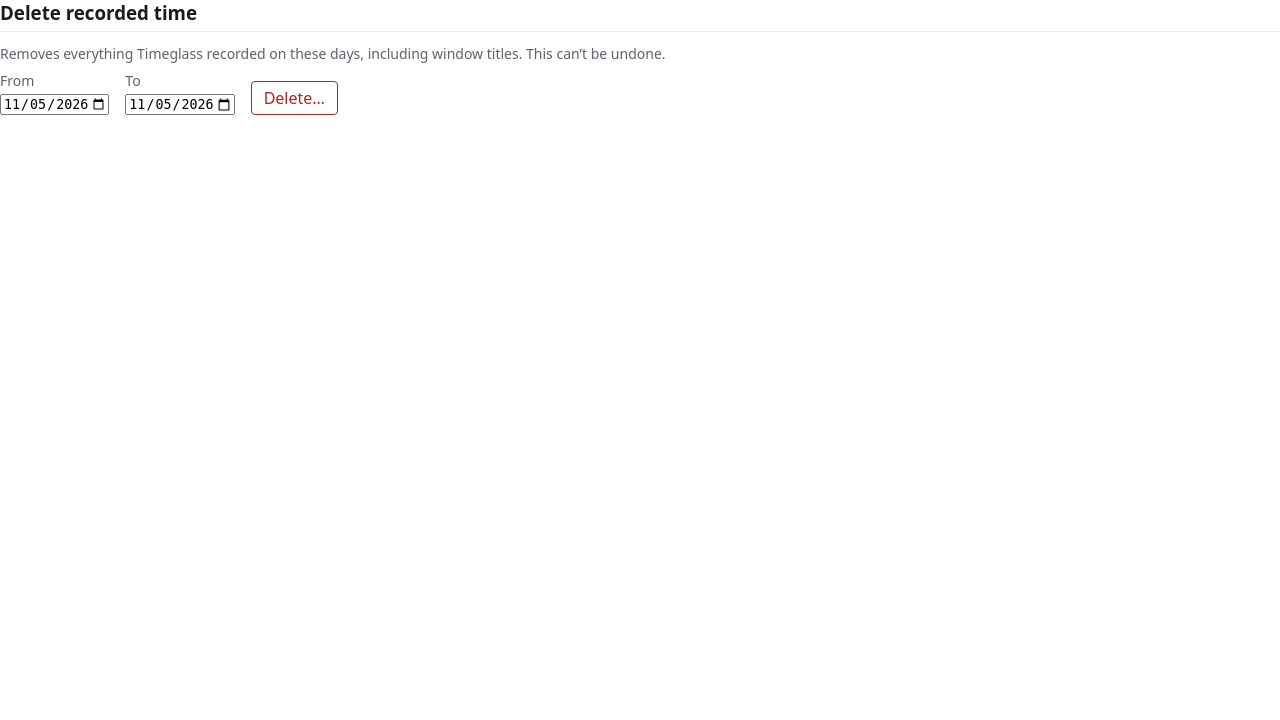
it: DeleteData › asks for confirmation, says how much time is deleted, and deletes
The width and height of the screenshot is (1280, 720).
Type "2026-11-02" into the date field labelled "From".
click(55, 105); type("2026-11-02")  # box [0,94,109,115]
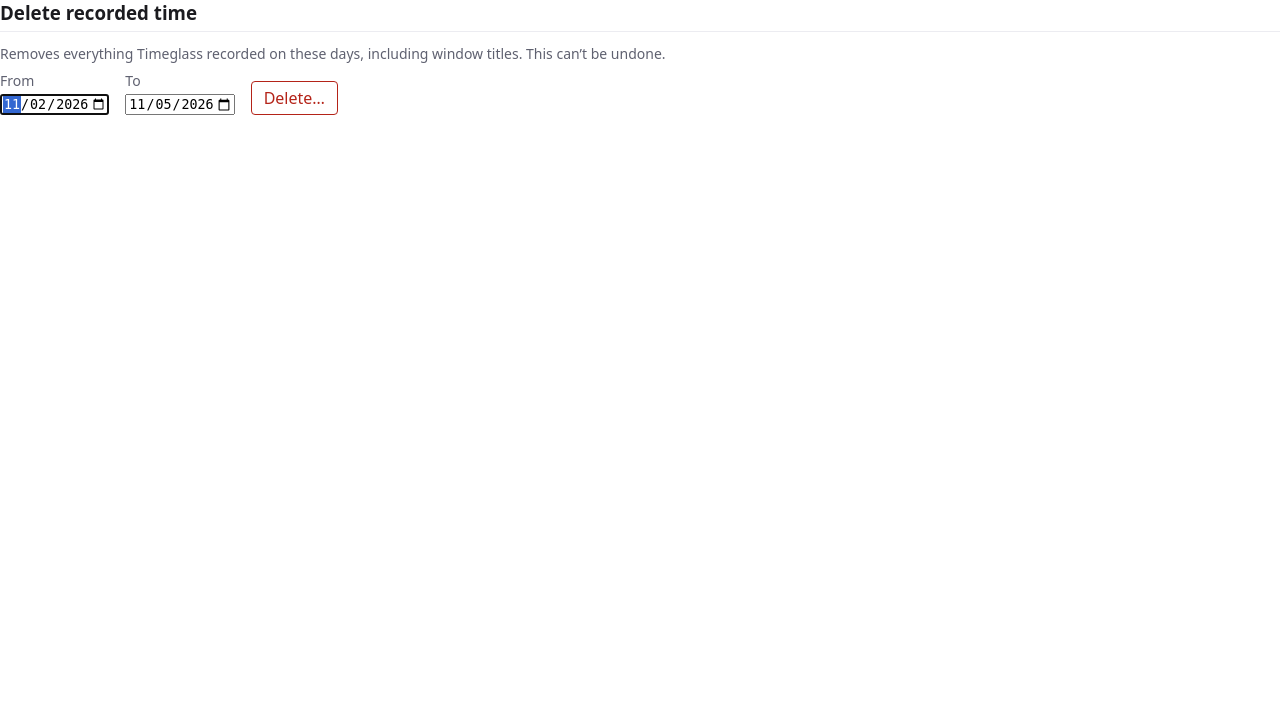
Type "2026-11-04" into the date field labelled "To".
click(180, 105); type("2026-11-04")  # box [125,94,235,115]
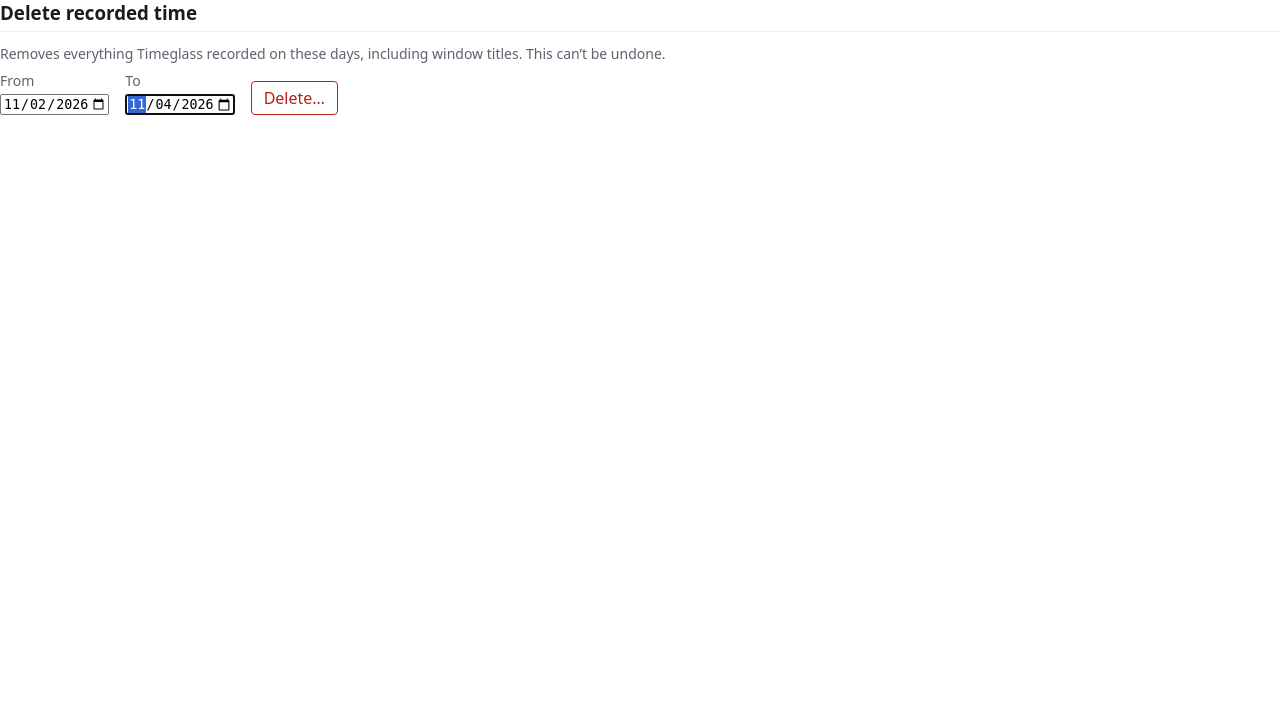
Click the button "Delete…".
click(294, 98)  # box [251,81,338,115]
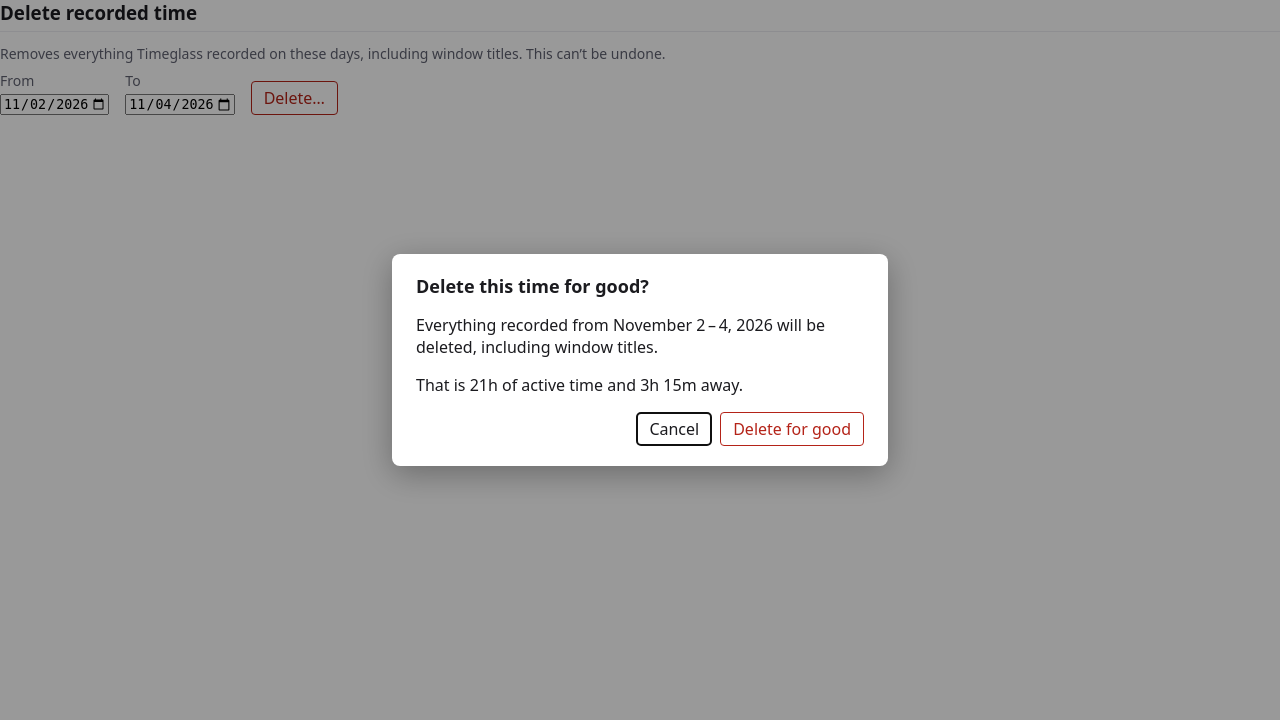
Expected: the text "That is 21h of active time and 3h 15m away." is shown, [416,374,743,396]
Click the button "Delete for good".
click(792, 429)  # box [720,412,864,446]
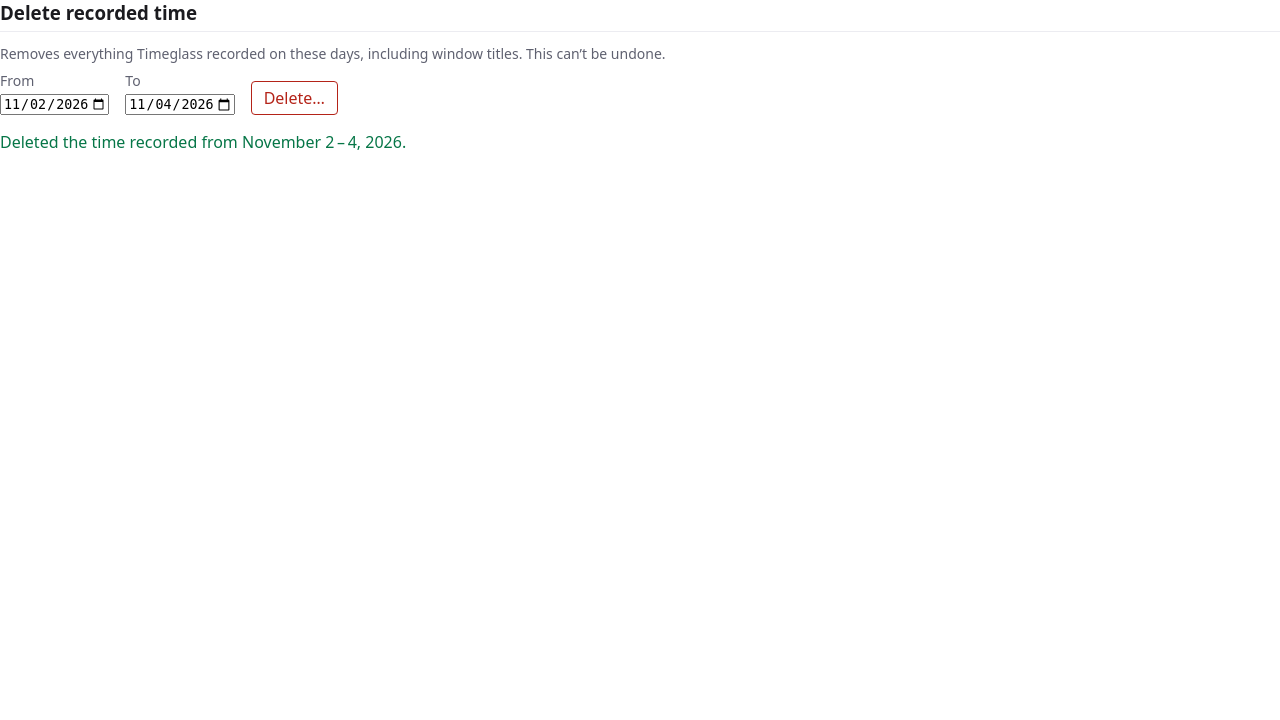
Expected: the dialog is gone
